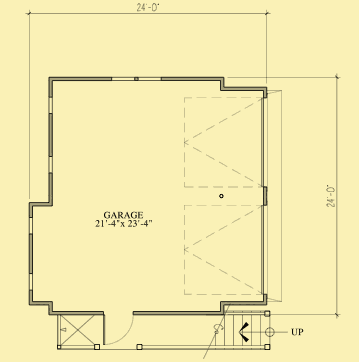door: (102, 311, 136, 346)
stairs: (205, 311, 274, 352)
window: (108, 75, 165, 84), (46, 94, 54, 115), (47, 153, 54, 175), (26, 273, 34, 291), (26, 216, 33, 235)
